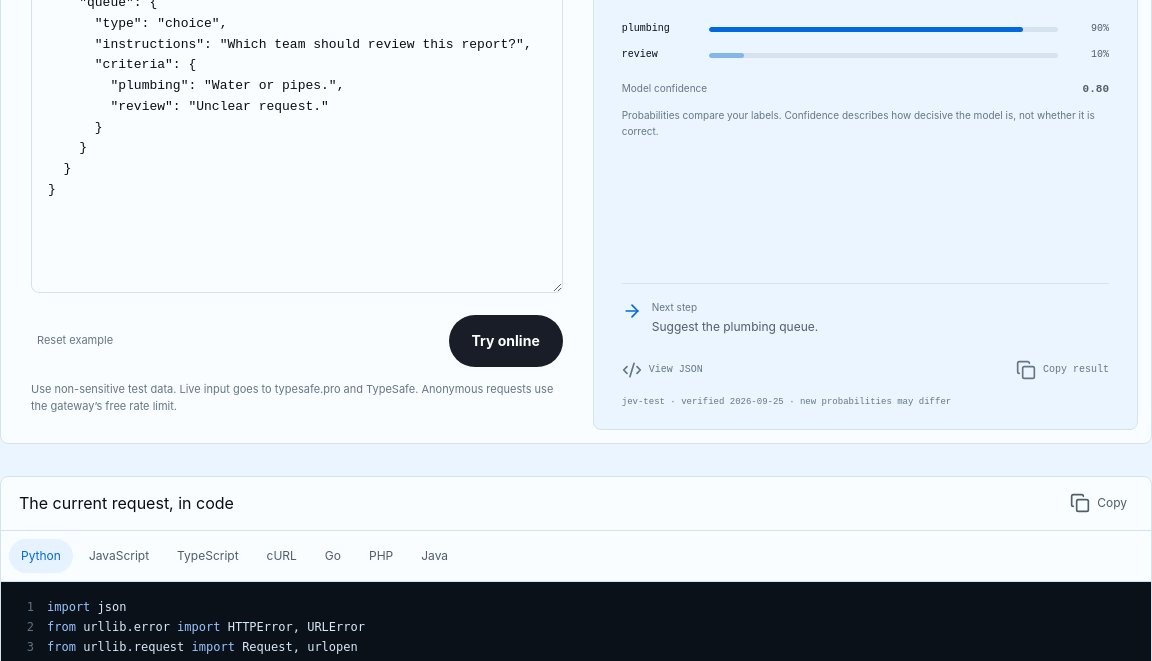
Test case: use-case request lifecycle › copies exact result bytes with the use-case message
This screenshot has width=1152, height=661.
(page scrolled)
Click the button "Copy result". click: point(1062, 370)
box: x1=1016 y1=353 x2=1109 y2=387
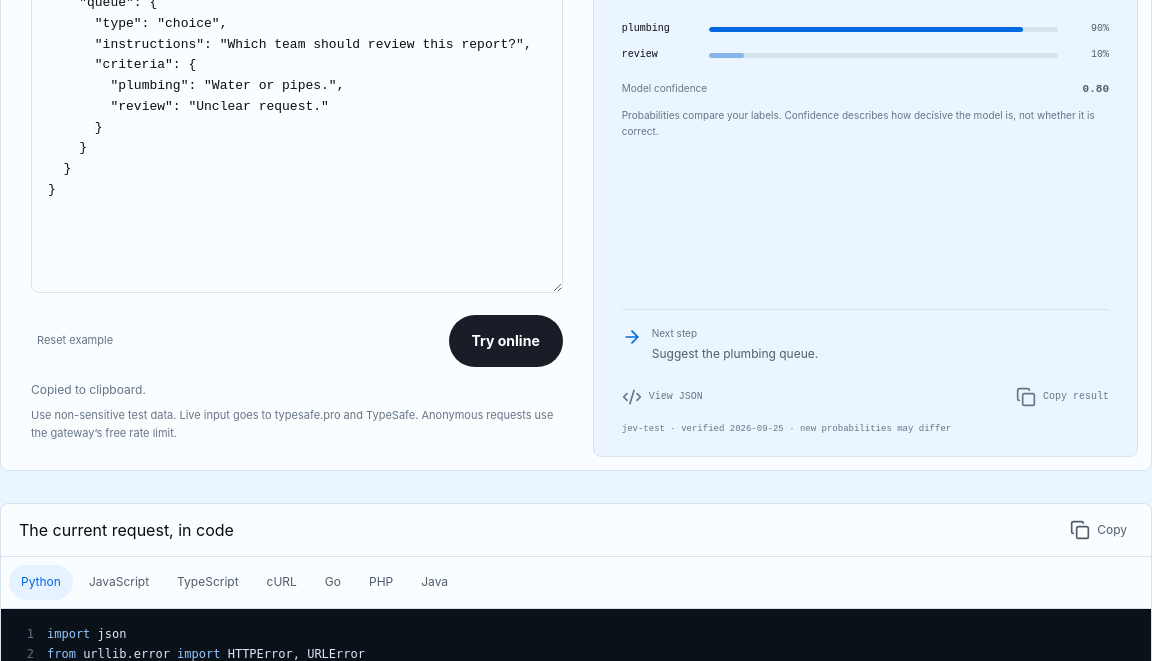
Expected: the text "Copied to clipboard." is shown, x1=31 y1=382 x2=146 y2=397
